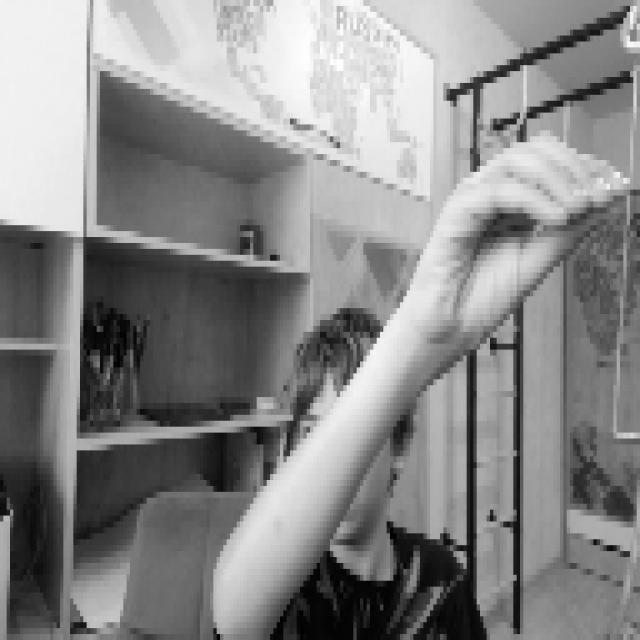left_click: (420, 124, 630, 338)
